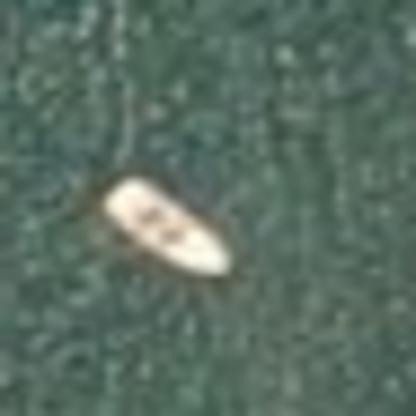ship: (84, 157, 247, 285)
